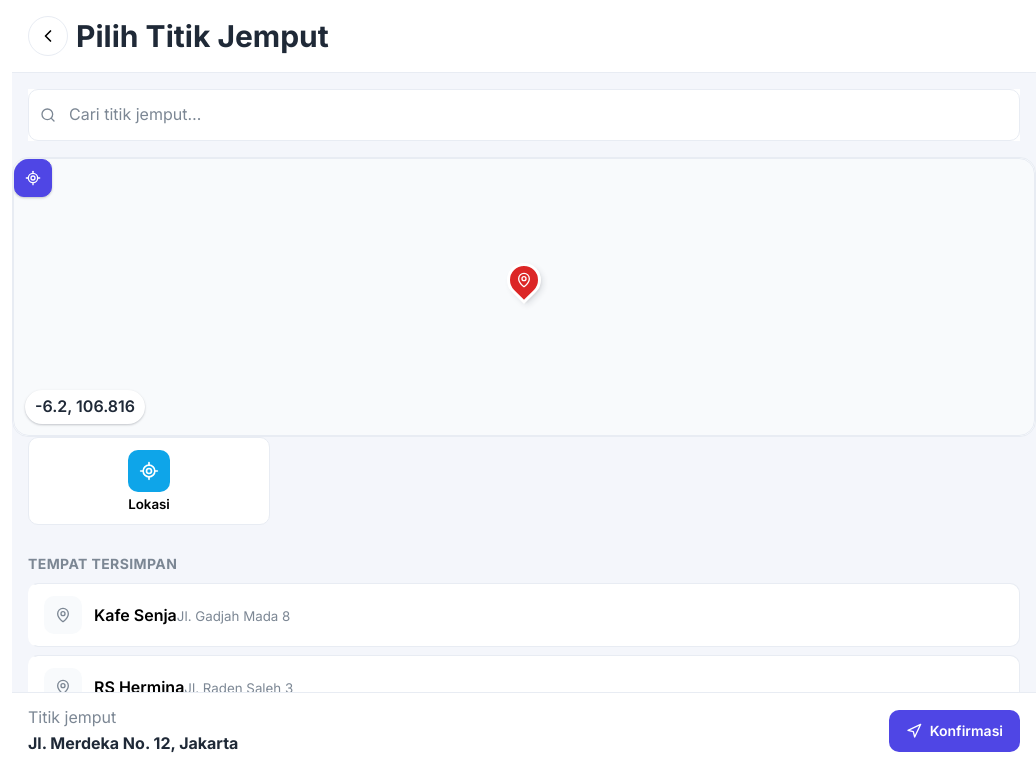
PickupSelection — navigation & interaction › saved pickup selection sets address
Click the text "Kafe Senja" at (135, 615), box [94,605,177,625]
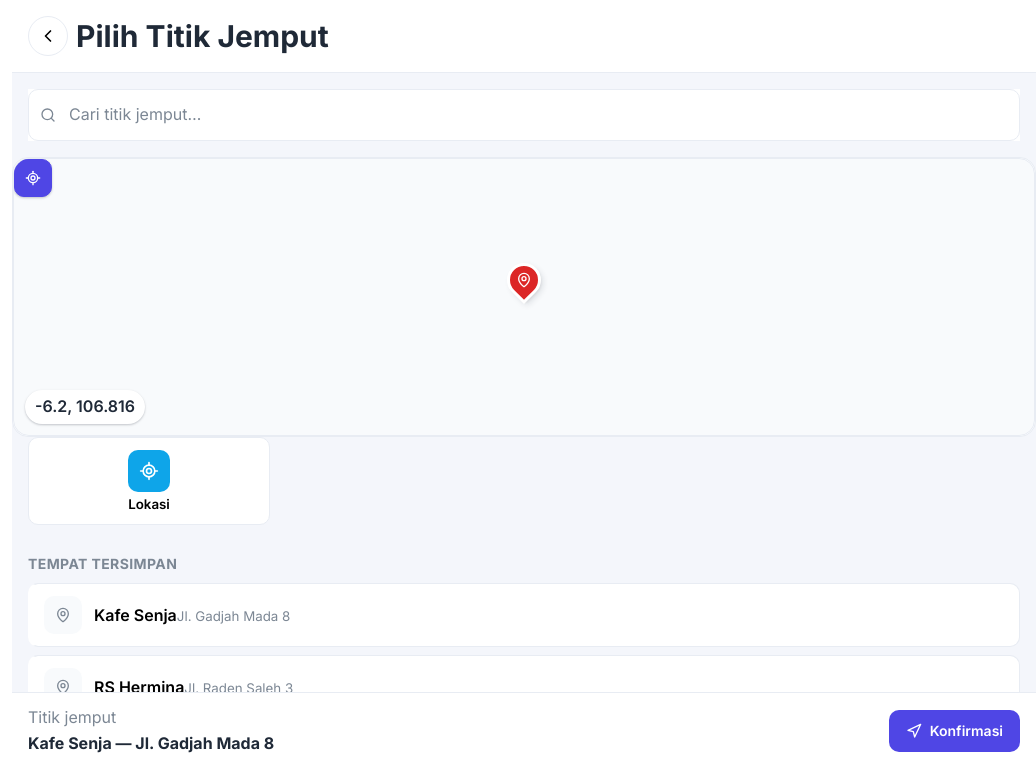
Now the text "Kafe Senja — Jl. Gadjah Mada 8" is shown, box [28,732,274,752]
